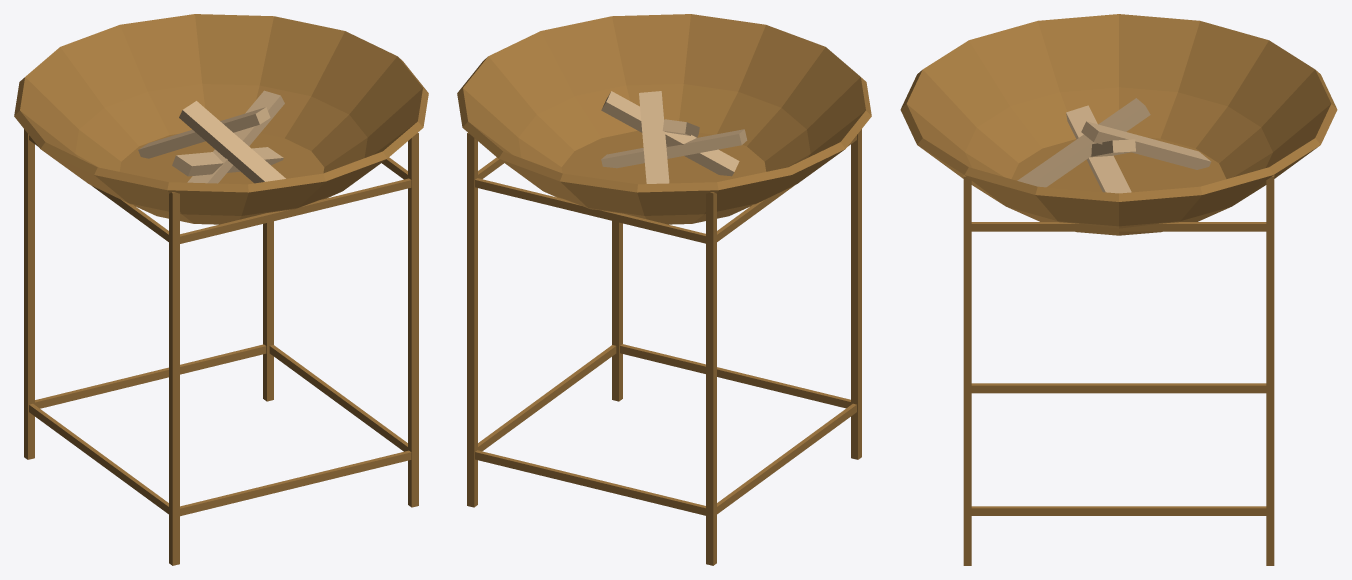
File: SM_firestand.fbx
The picture shows the model from 3 angles, left to right: view 1: azimuth 30°, elevation 25°; view 2: azimuth 150°, elevation 25°; view 3: azimuth 270°, elevation 25°; orthographic projection. The views are drawn at different scales.
Visible parts, largest first — view 1: Box128; view 2: Box128; view 3: Box128.
Part boxes in pixels (<box>): Box128: <box>14,14,428,565</box>; Box128: <box>457,14,871,565</box>; Box128: <box>900,14,1337,565</box>.
Bounding box in the file's own units: 45.42 × 45.42 × 45.8.
